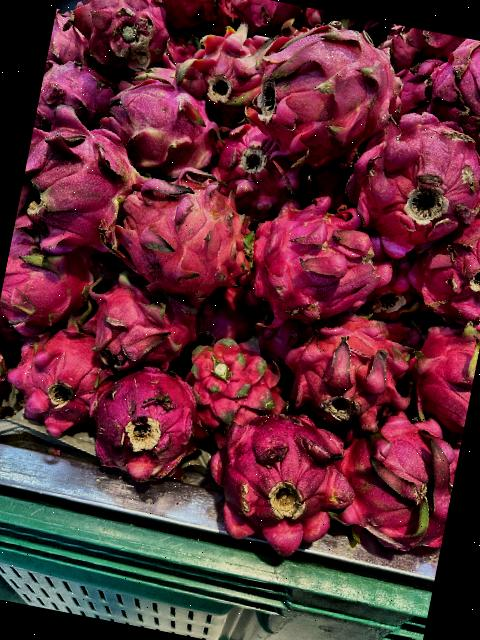buah-naga-belum-matang: (8, 96, 157, 280), (96, 156, 271, 312), (92, 70, 234, 192)
buah-naga-matang: (189, 392, 375, 568), (234, 10, 412, 172), (244, 188, 399, 354), (266, 304, 433, 446), (342, 96, 480, 258), (317, 406, 463, 557), (66, 354, 219, 494), (0, 320, 129, 441), (170, 336, 304, 452), (72, 273, 203, 387), (0, 224, 114, 350), (386, 309, 480, 443), (399, 204, 480, 334), (409, 32, 480, 179), (55, 0, 193, 75), (33, 49, 124, 145)
